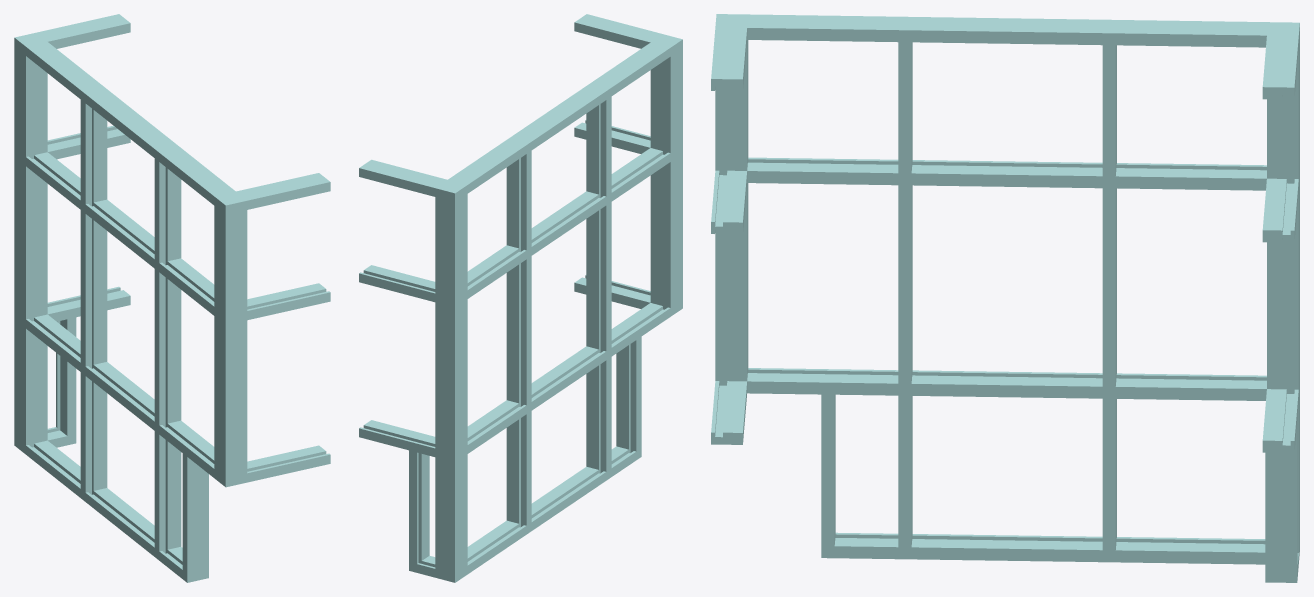
Rendered from 20160125Autodesk_Hospital_Parking Garage_2015_Existing_Garage_-_Roof_Level_IfcMember.dae.
The picture shows the model from 3 angles, left to right: view 1: azimuth 30°, elevation 25°; view 2: azimuth 150°, elevation 25°; view 3: azimuth 270°, elevation 25°; orthographic projection. The views are drawn at different scales.
Parts seen in each view (by area): view 1: 1yBAEeuZD0MhjdQDl3CHWI, 1yBAEeuZD0MhjdQDl3CHfh, 1yBAEeuZD0MhjdQDl3CHTo, 1yBAEeuZD0MhjdQDl3CHC9, 1yBAEeuZD0MhjdQDl3CHCc, 1yBAEeuZD0MhjdQDl3CHic, 1yBAEeuZD0MhjdQDl3CHq6, 1yBAEeuZD0MhjdQDl3CHLi, 1yBAEeuZD0MhjdQDl3CHC8, 1yBAEeuZD0MhjdQDl3CHCd, 1yBAEeuZD0MhjdQDl3CHCv, 1yBAEeuZD0MhjdQDl3CHCs (+19 smaller); view 2: 1yBAEeuZD0MhjdQDl3CHfh, 1yBAEeuZD0MhjdQDl3CHWI, 1yBAEeuZD0MhjdQDl3CHic, 1yBAEeuZD0MhjdQDl3CHq6, 1yBAEeuZD0MhjdQDl3CHCc, 1yBAEeuZD0MhjdQDl3CHC9, 1yBAEeuZD0MhjdQDl3CHTo, 1yBAEeuZD0MhjdQDl3CHCd, 1yBAEeuZD0MhjdQDl3CHC8, 1yBAEeuZD0MhjdQDl3CHLi, 1yBAEeuZD0MhjdQDl3CHCv, 1yBAEeuZD0MhjdQDl3CHCs (+19 smaller); view 3: 1yBAEeuZD0MhjdQDl3CHJM, 1yBAEeuZD0MhjdQDl3CHWI, 1yBAEeuZD0MhjdQDl3CHfh, 1yBAEeuZD0MhjdQDl3CHJZ, 1yBAEeuZD0MhjdQDl3CHJY, 1yBAEeuZD0MhjdQDl3CHJb, 1yBAEeuZD0MhjdQDl3CHxi, 1yBAEeuZD0MhjdQDl3CHJW, 1yBAEeuZD0MhjdQDl3CHdw, 1yBAEeuZD0MhjdQDl3CHHd, 1yBAEeuZD0MhjdQDl3CHHZ, 1yBAEeuZD0MhjdQDl3CHJK (+18 smaller).
Boxes of the visible parts, bbox=[...] form: 1yBAEeuZD0MhjdQDl3CHWI: bbox=[214, 311, 247, 487]; 1yBAEeuZD0MhjdQDl3CHfh: bbox=[14, 153, 47, 323]; 1yBAEeuZD0MhjdQDl3CHTo: bbox=[214, 191, 247, 320]; 1yBAEeuZD0MhjdQDl3CHC9: bbox=[80, 205, 107, 370]; 1yBAEeuZD0MhjdQDl3CHCc: bbox=[154, 264, 181, 429]; 1yBAEeuZD0MhjdQDl3CHic: bbox=[14, 315, 47, 454]; 1yBAEeuZD0MhjdQDl3CHq6: bbox=[14, 32, 47, 161]; 1yBAEeuZD0MhjdQDl3CHLi: bbox=[182, 453, 208, 582]; 1yBAEeuZD0MhjdQDl3CHC8: bbox=[80, 368, 107, 501]; 1yBAEeuZD0MhjdQDl3CHCd: bbox=[154, 426, 181, 560]; 1yBAEeuZD0MhjdQDl3CHCv: bbox=[154, 158, 181, 267]; 1yBAEeuZD0MhjdQDl3CHCs: bbox=[80, 100, 107, 208]; 1yBAEeuZD0MhjdQDl3CHfh: bbox=[435, 295, 467, 457]; 1yBAEeuZD0MhjdQDl3CHWI: bbox=[650, 149, 682, 316]; 1yBAEeuZD0MhjdQDl3CHic: bbox=[435, 450, 467, 582]; 1yBAEeuZD0MhjdQDl3CHq6: bbox=[435, 180, 467, 302]; 1yBAEeuZD0MhjdQDl3CHCc: bbox=[586, 197, 611, 355]; 1yBAEeuZD0MhjdQDl3CHC9: bbox=[506, 251, 531, 409]; 1yBAEeuZD0MhjdQDl3CHTo: bbox=[650, 34, 682, 156]; 1yBAEeuZD0MhjdQDl3CHCd: bbox=[586, 352, 611, 480]; 1yBAEeuZD0MhjdQDl3CHC8: bbox=[506, 406, 531, 534]; 1yBAEeuZD0MhjdQDl3CHLi: bbox=[616, 336, 641, 459]; 1yBAEeuZD0MhjdQDl3CHCv: bbox=[586, 96, 611, 200]; 1yBAEeuZD0MhjdQDl3CHCs: bbox=[506, 151, 531, 254]; 1yBAEeuZD0MhjdQDl3CHJM: bbox=[905, 16, 1110, 45]; 1yBAEeuZD0MhjdQDl3CHWI: bbox=[715, 183, 748, 385]; 1yBAEeuZD0MhjdQDl3CHfh: bbox=[1267, 172, 1299, 394]; 1yBAEeuZD0MhjdQDl3CHJZ: bbox=[911, 370, 1102, 398]; 1yBAEeuZD0MhjdQDl3CHJY: bbox=[911, 160, 1102, 188]; 1yBAEeuZD0MhjdQDl3CHJb: bbox=[911, 534, 1102, 562]; 1yBAEeuZD0MhjdQDl3CHxi: bbox=[1265, 417, 1297, 582]; 1yBAEeuZD0MhjdQDl3CHJW: bbox=[747, 14, 905, 42]; 1yBAEeuZD0MhjdQDl3CHdw: bbox=[1109, 19, 1267, 47]; 1yBAEeuZD0MhjdQDl3CHHd: bbox=[747, 157, 898, 185]; 1yBAEeuZD0MhjdQDl3CHHZ: bbox=[747, 368, 898, 395]; 1yBAEeuZD0MhjdQDl3CHJK: bbox=[1115, 373, 1266, 400].
Size of the model in its own units: 0.8337 by 2.82 by 2.79.
